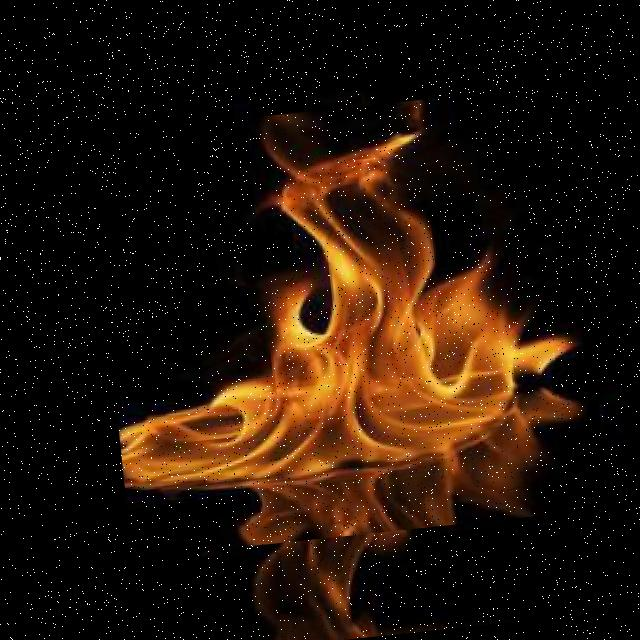fire: (88, 84, 610, 558)
